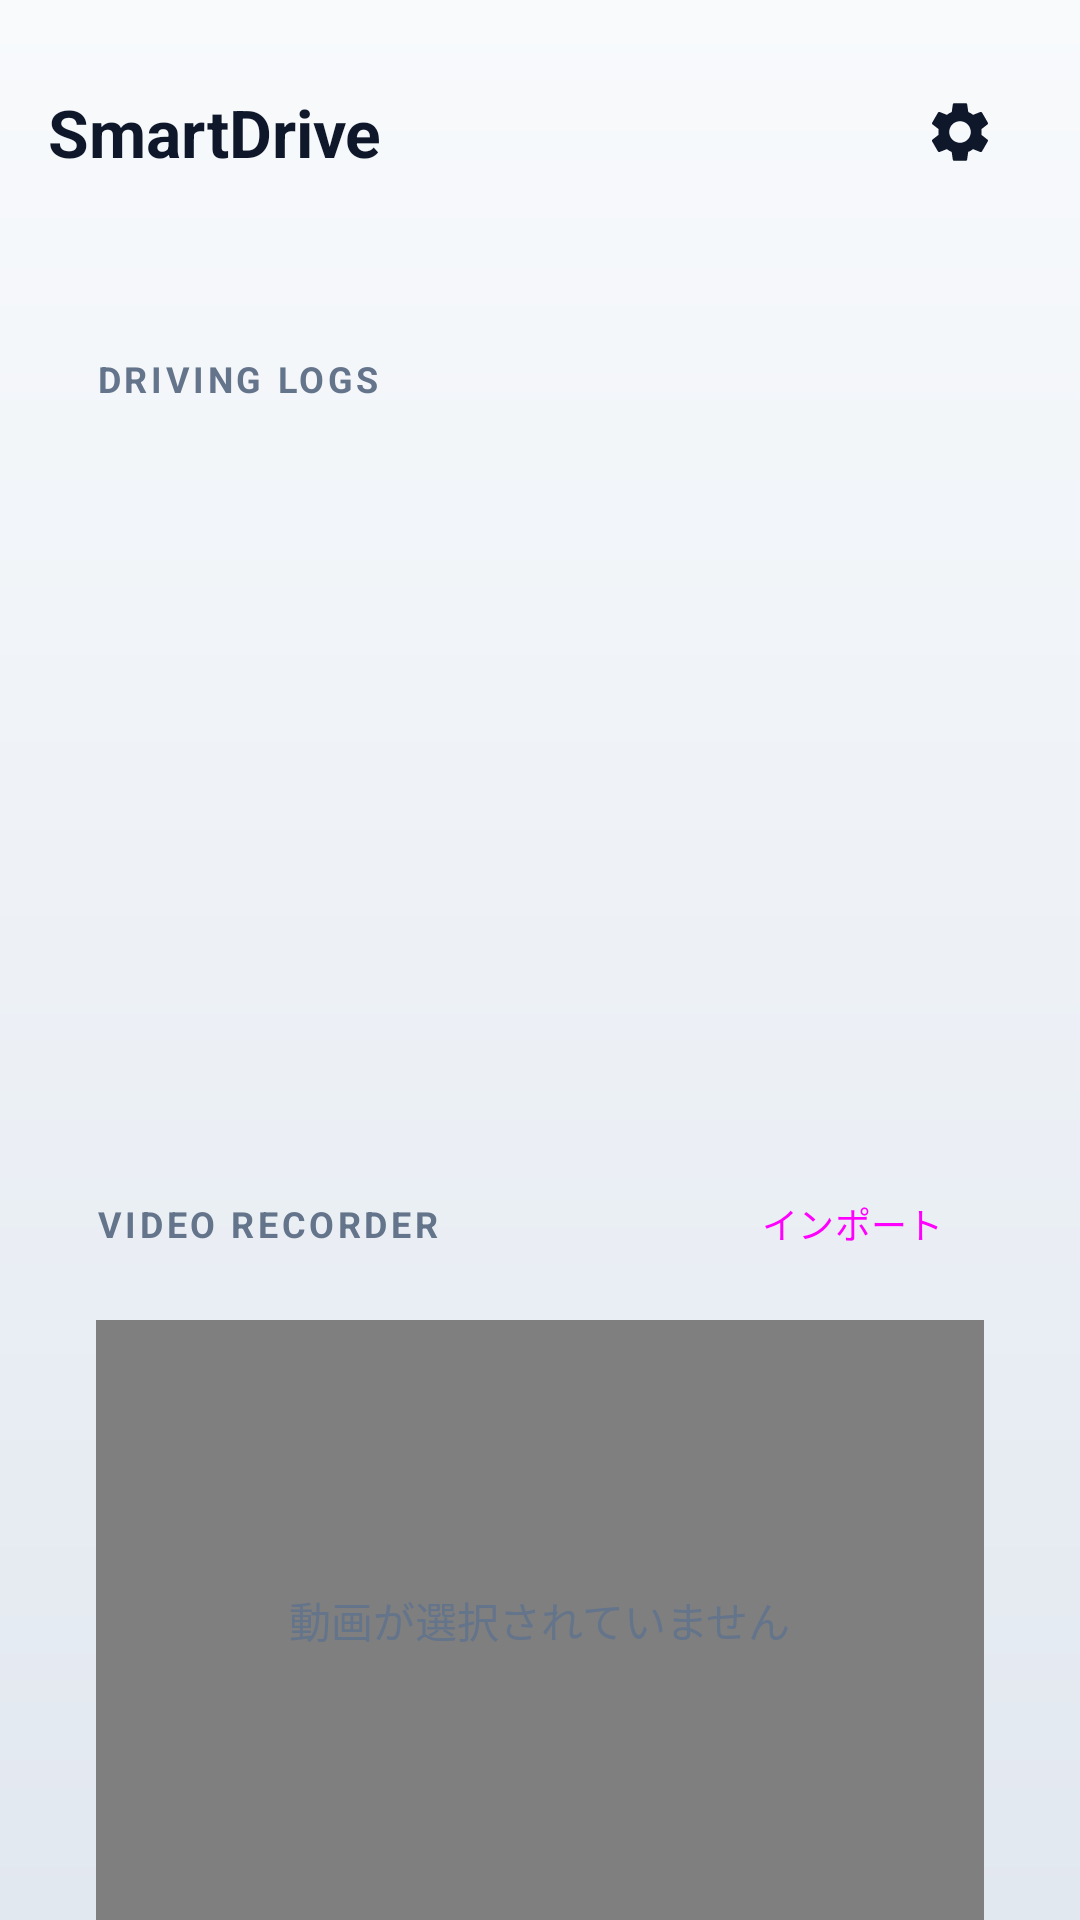

Locate icon controls on the screen. Image size 1080×1920, boxes as (x1, y1, x2, y2).
設定ボタン: (932, 103, 988, 161)
